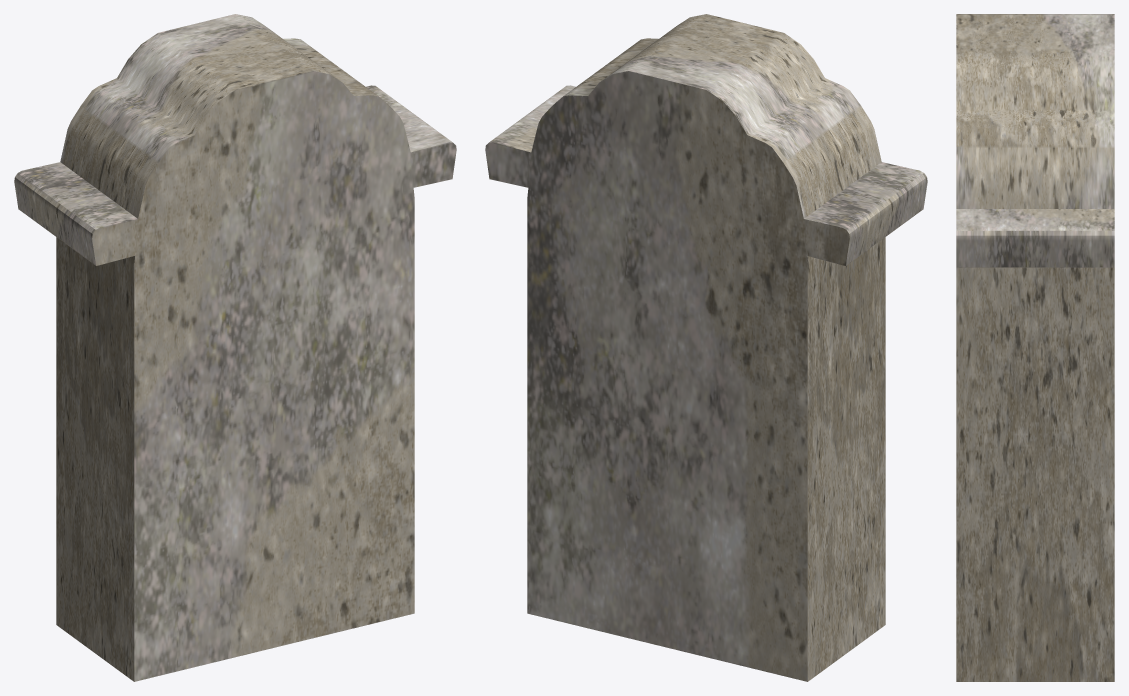
File: TombStoneLong.fbx
3 views of the same model, side by side, from view 1: azimuth 30°, elevation 25°; view 2: azimuth 150°, elevation 25°; view 3: azimuth 270°, elevation 25° (orthographic).
Visible parts, largest first — view 1: TombStoneLong; view 2: TombStoneLong; view 3: TombStoneLong.
Boxes of the visible parts, <box> form: TombStoneLong: <box>14,14,456,681</box>; TombStoneLong: <box>485,14,927,681</box>; TombStoneLong: <box>956,14,1114,681</box>.
Bounding box in the file's own units: 2.71 × 4.02 × 1.
1 material, 1 textured.
